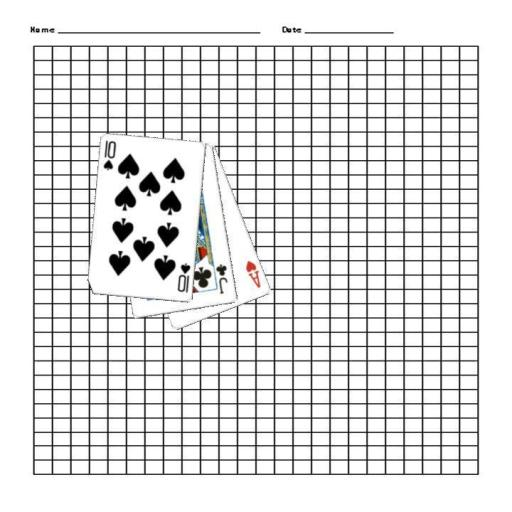card-corner: (242, 258, 262, 290), (100, 137, 118, 172), (213, 261, 230, 296), (175, 260, 192, 294)
